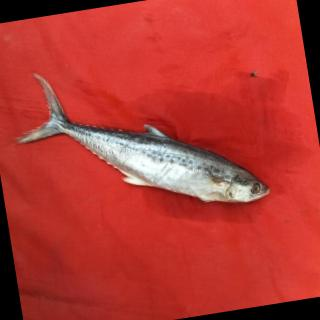Ikan: (9, 38, 281, 251)
